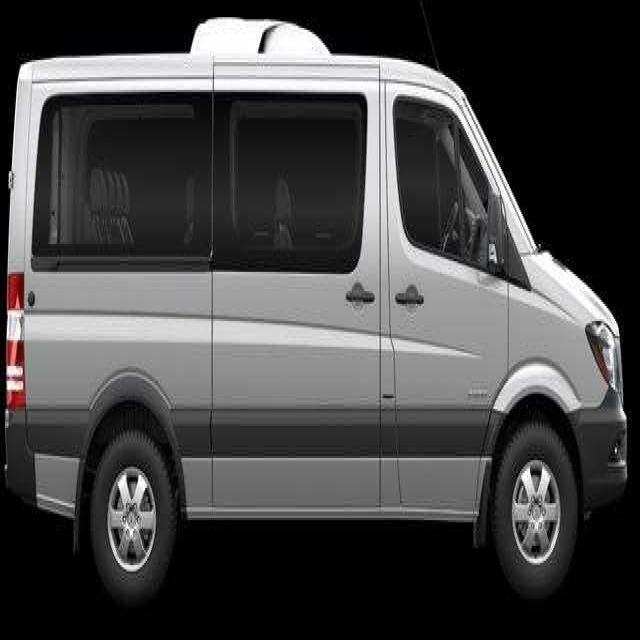Van: (0, 12, 631, 601)
